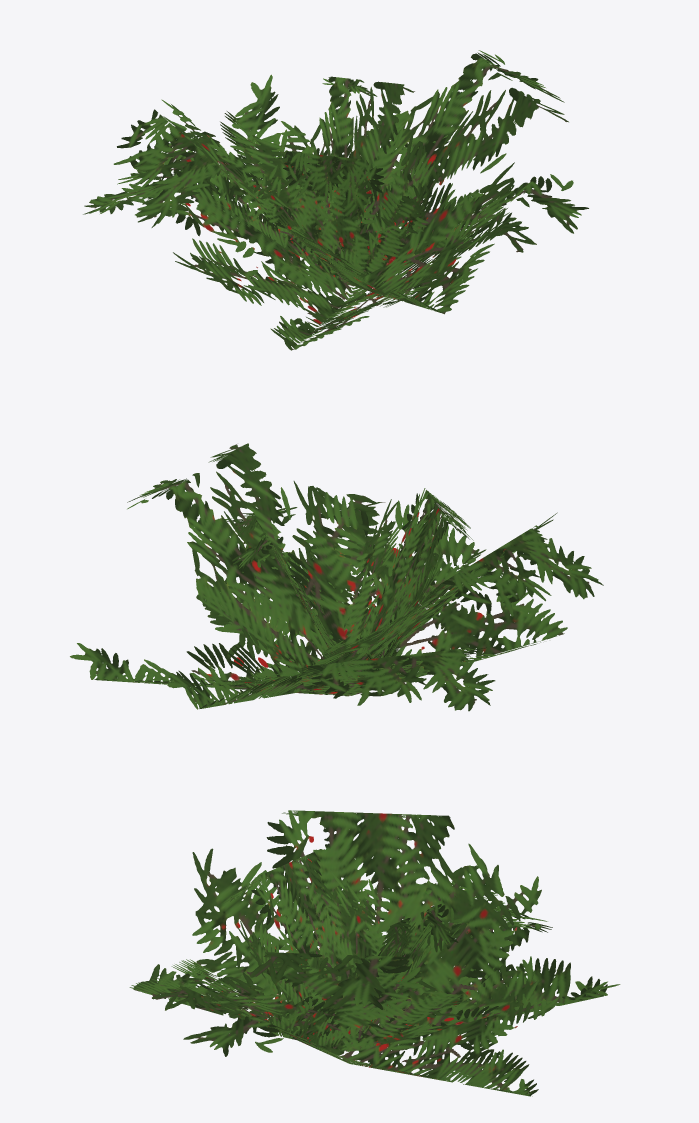
Rendered from Bush01.fbx.
The picture shows the model from 3 angles, top to bottom: view 1: azimuth 30°, elevation 25°; view 2: azimuth 150°, elevation 25°; view 3: azimuth 270°, elevation 25°; orthographic projection. The views are drawn at different scales.
Parts seen in each view (by area): view 1: Bush01; view 2: Bush01; view 3: Bush01.
Boxes of the visible parts, x1,y1,x2,y2 form: Bush01: (83, 50, 588, 350); Bush01: (70, 443, 603, 711); Bush01: (129, 810, 620, 1096).
Size of the model in its own units: 282 by 83.55 by 282.
